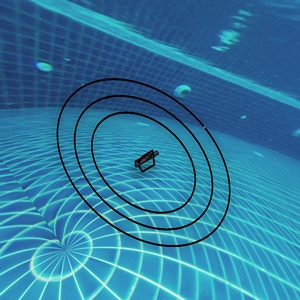submarine: (137, 150, 157, 172)
